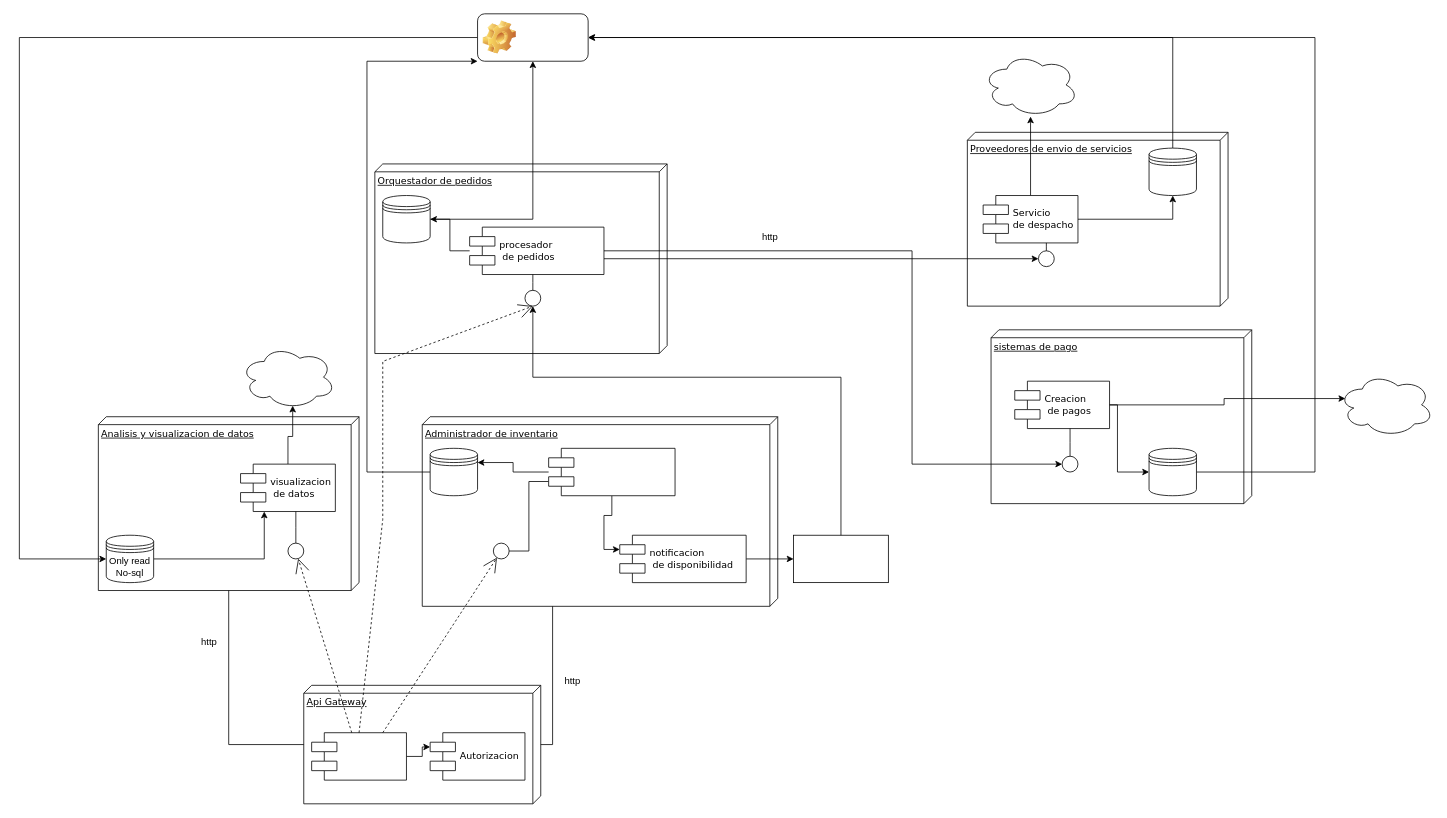
Some shapes in this 1447 by 818 pixel diagram are drawn without their labels. The shapes that lost their labels are listed below. From the top down, each one's centre as x and y in pixels, then its label:
point 532,37: replicacion de data
point 1030,85: Fedex, UPS
point 287,377: Tableau, Power BI
point 1385,404: paypal, stripe, etc
point 611,472: administracion de stock
point 840,558: Notificacion por Rabbit MQ
point 358,756: Autenticacion
